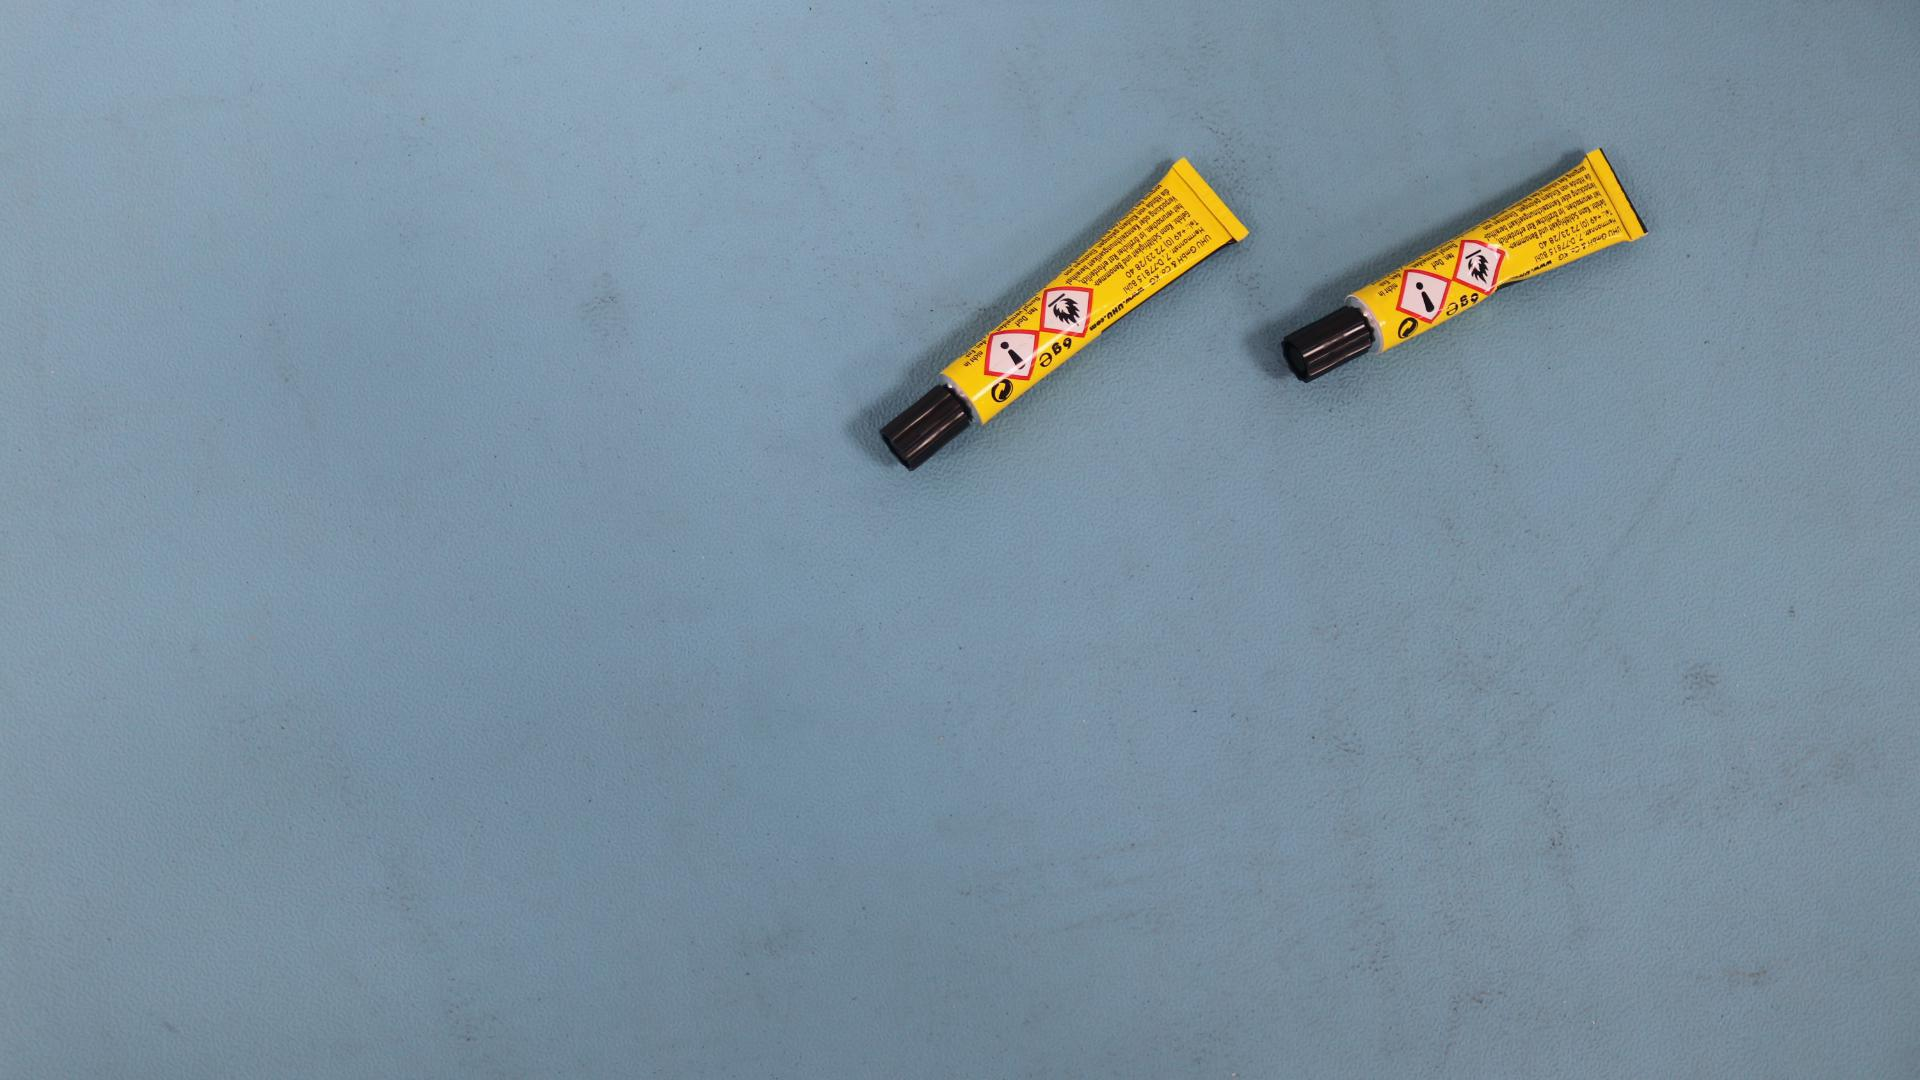Head: (927, 423, 935, 431), (1330, 338, 1336, 344)
Tail: (1208, 196, 1216, 204), (1613, 192, 1620, 199)
Tube: (880, 157, 1251, 471), (1283, 148, 1650, 383)
